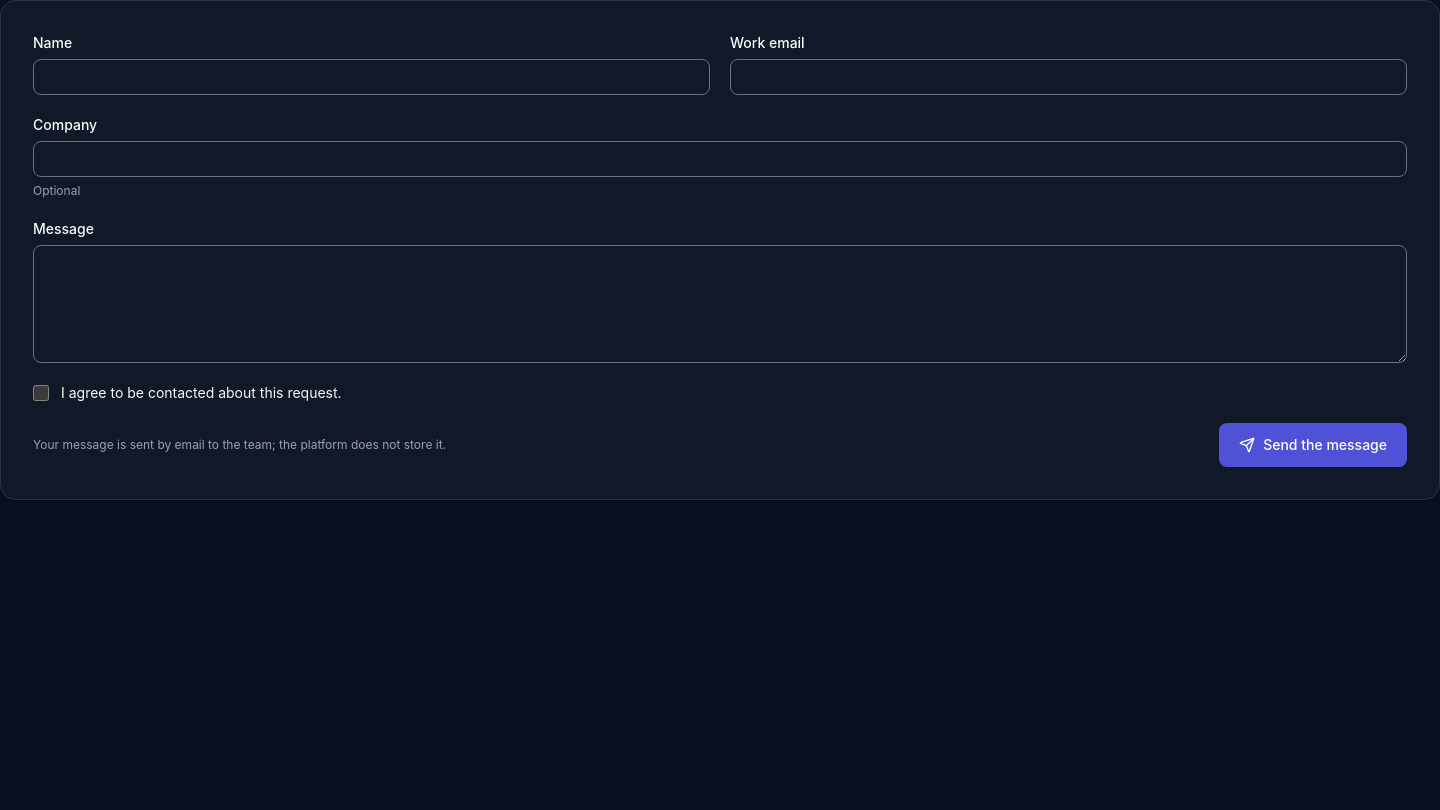
contact form › shows the error when the message cannot be sent
Type "Claire" into the field labelled "Name" at (372, 77), box [33, 59, 710, 95]
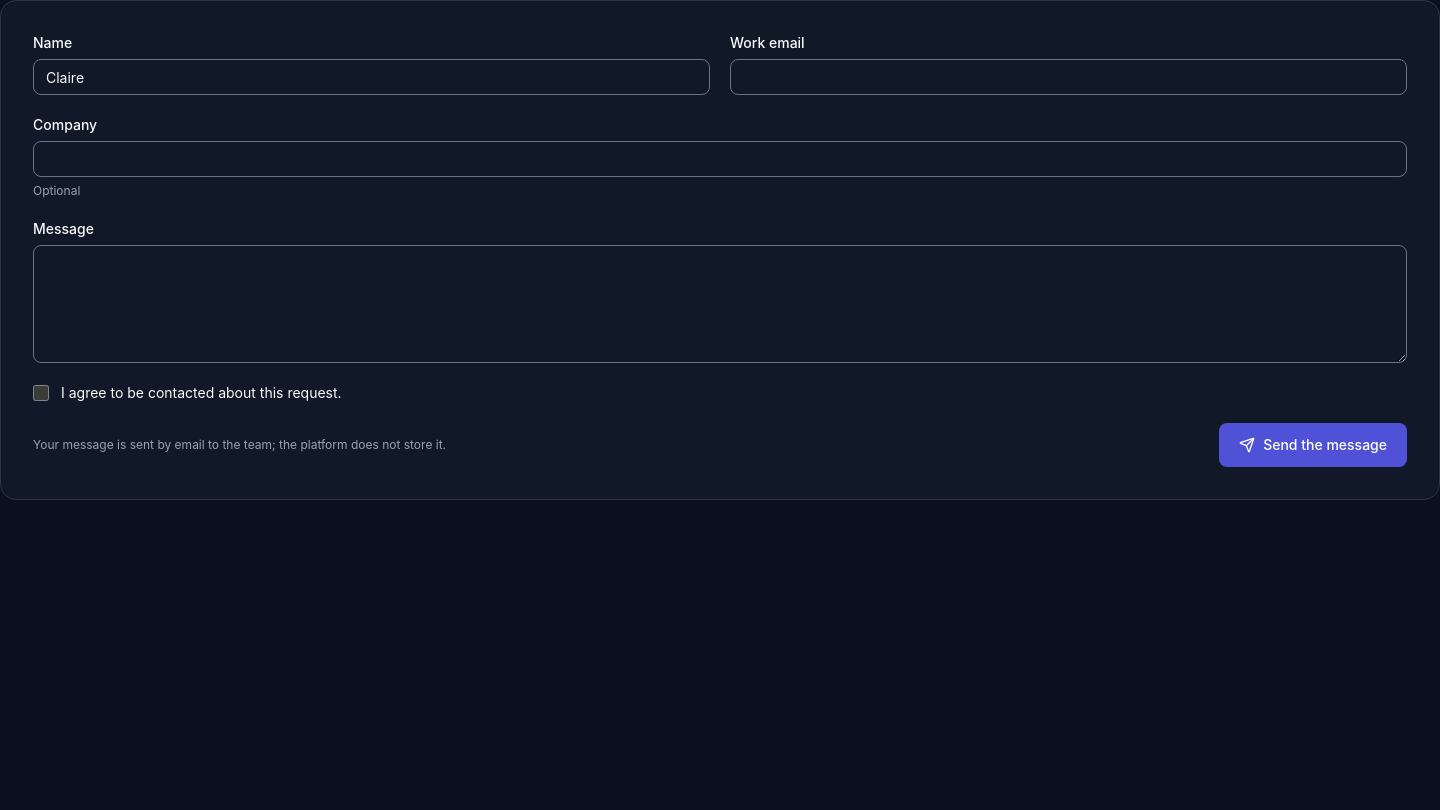
Type "claire@example.com" into the field labelled "Work email" at (1068, 77), box [730, 59, 1407, 95]
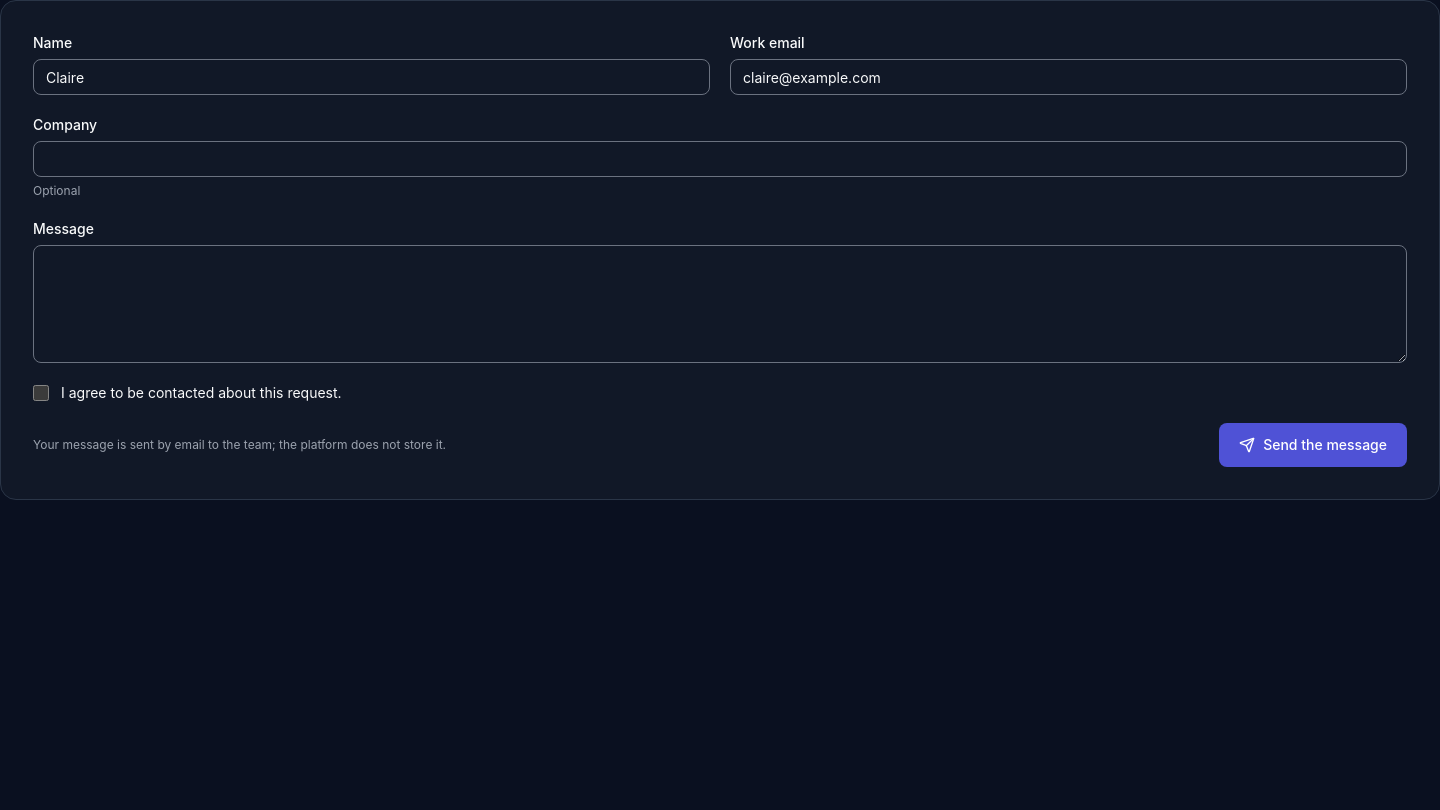
Type "A long enough message." into the text box labelled "Message" at (720, 304), box [33, 245, 1407, 363]
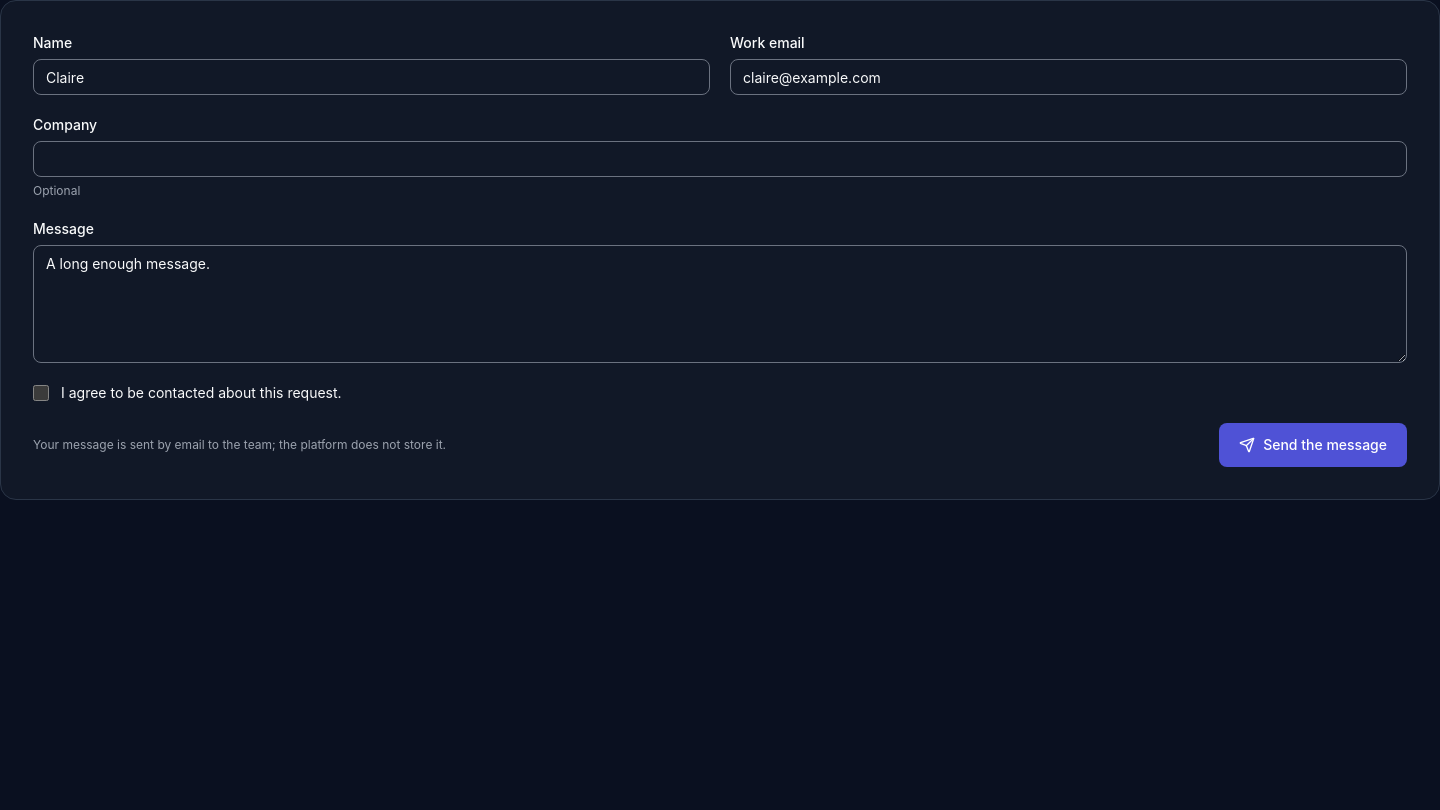
Click the checkbox labelled "I agree to be contacted about this request." at (41, 393), box [33, 385, 49, 401]
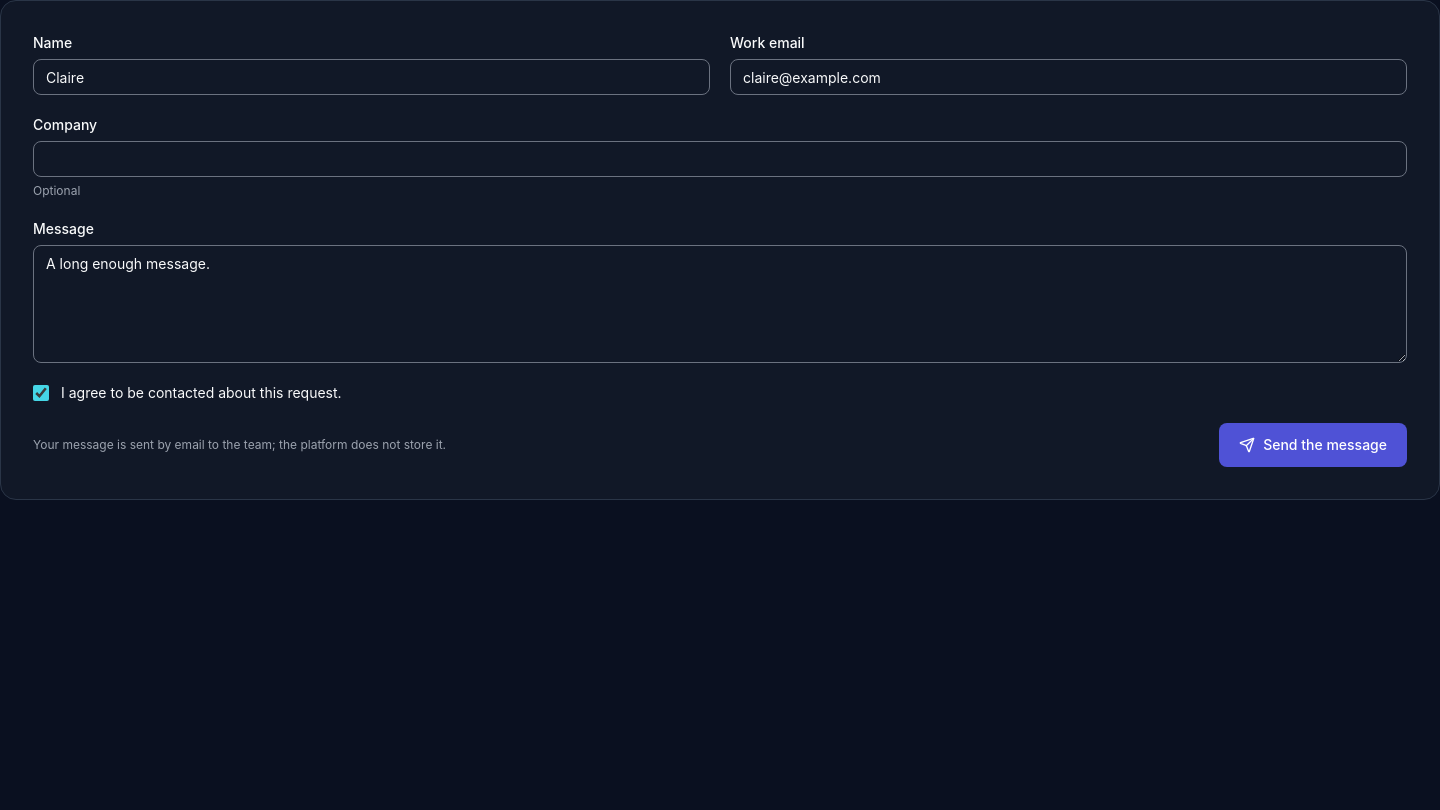
Click the button "Send the message" at (1313, 445), box [1219, 423, 1407, 467]
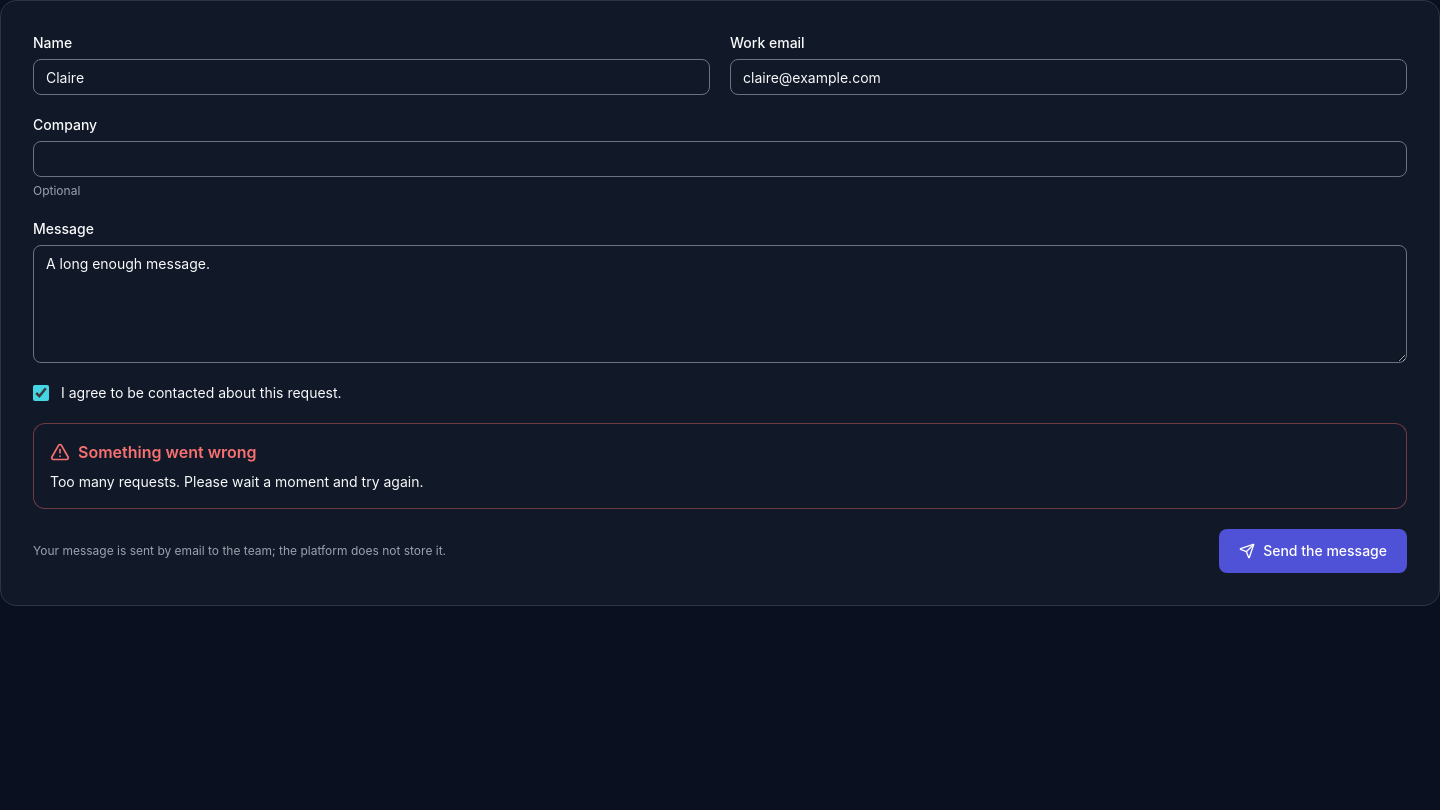
Now the message "Something went wrong Too many requests. Please wait a moment and try again." is shown, box [33, 423, 1407, 509]
